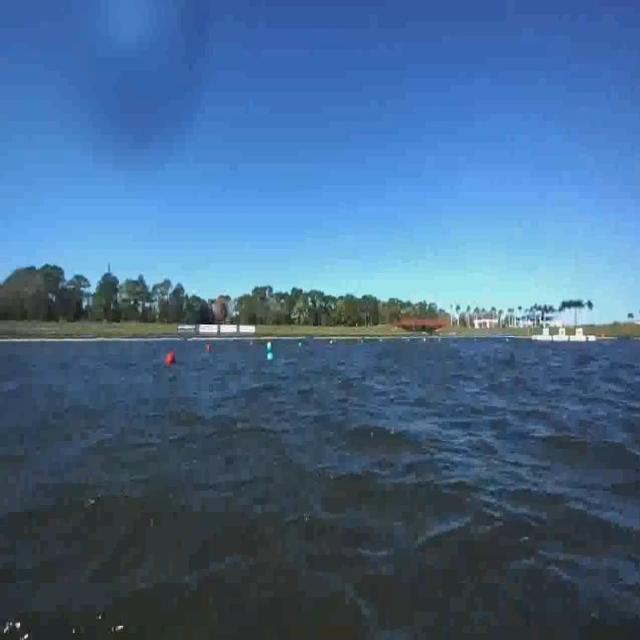green-buoy: (265, 348, 276, 370)
red-buoy: (164, 351, 177, 372)
